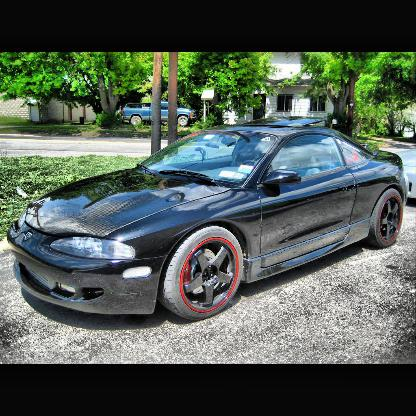Eagle Talon Hatchback 1998: (8, 127, 407, 324)
